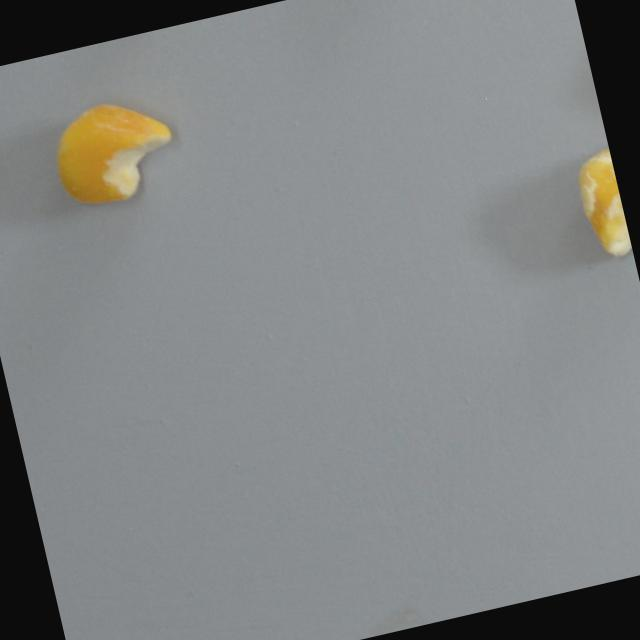dañado: (40, 85, 189, 218), (564, 139, 634, 269)
